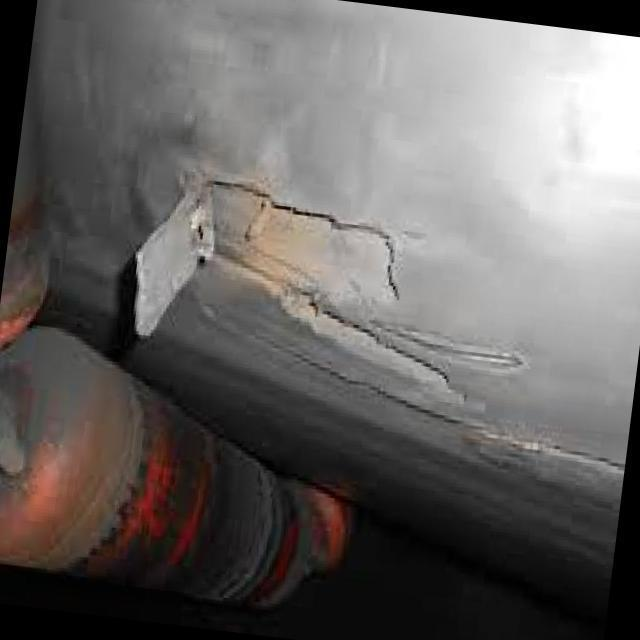Tear: (123, 168, 447, 395)
